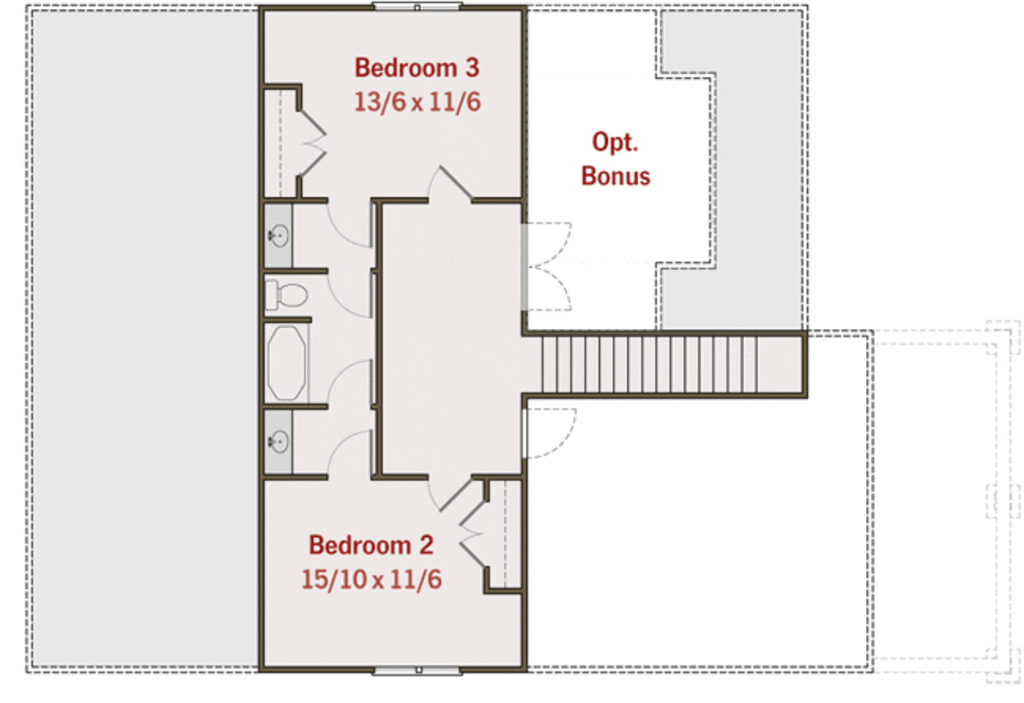door: (513, 214, 590, 318), (405, 151, 494, 213), (512, 403, 588, 460), (322, 192, 385, 251), (292, 108, 339, 181), (325, 267, 381, 323), (450, 499, 493, 564), (327, 423, 375, 481), (323, 351, 372, 404), (422, 471, 474, 519)
large_sink: (257, 269, 314, 317)
small_sink: (262, 402, 294, 473), (258, 203, 293, 265)
stairs: (512, 322, 823, 410)
tub: (266, 316, 311, 402)
window: (372, 1, 465, 20), (373, 662, 460, 681)
